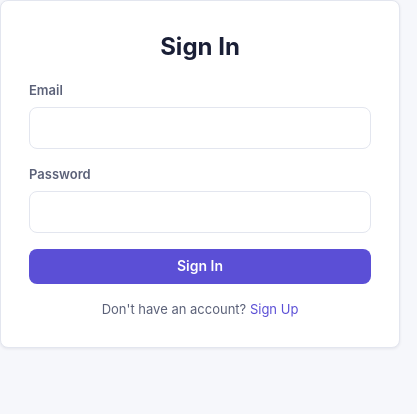
AuthForm sign in › shows validation errors before submitting
Step 1. Type "not-an-email" into the field labelled "Email" → (200, 128), box [29, 106, 371, 149]
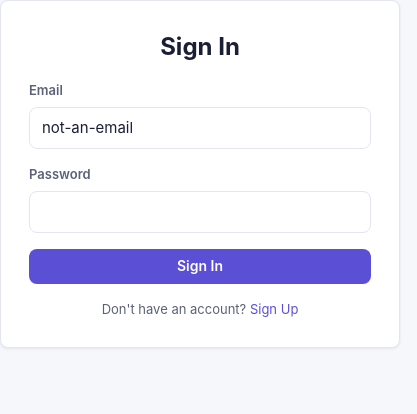
Step 2. Type "weak" into the password field labelled "Password" → (200, 212), box [29, 190, 371, 233]
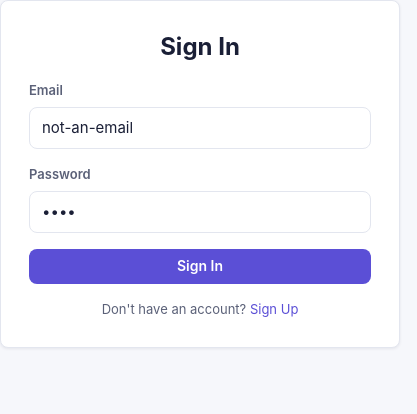
Step 3. Click the button "Sign In" → (200, 266), box [29, 249, 371, 284]
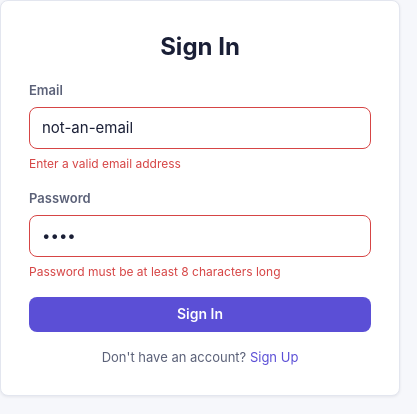
Result: the text "Enter a valid email address" is shown at [29, 156, 181, 171]
Result: the text "Password must be at least 8 characters long" is shown at [29, 264, 280, 279]
